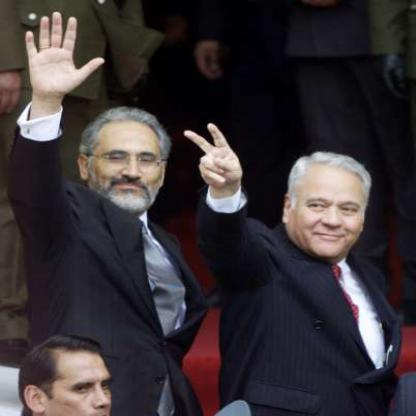face: (292, 156, 369, 259), (92, 112, 168, 213)
